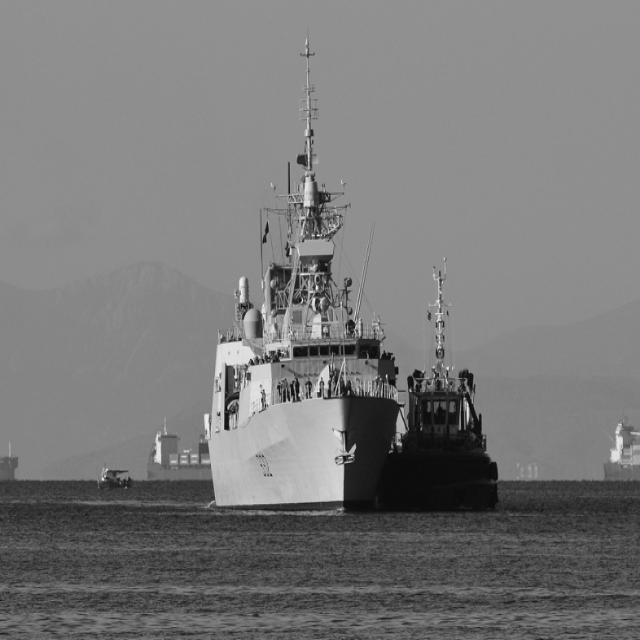Fragata: (201, 15, 407, 521)
